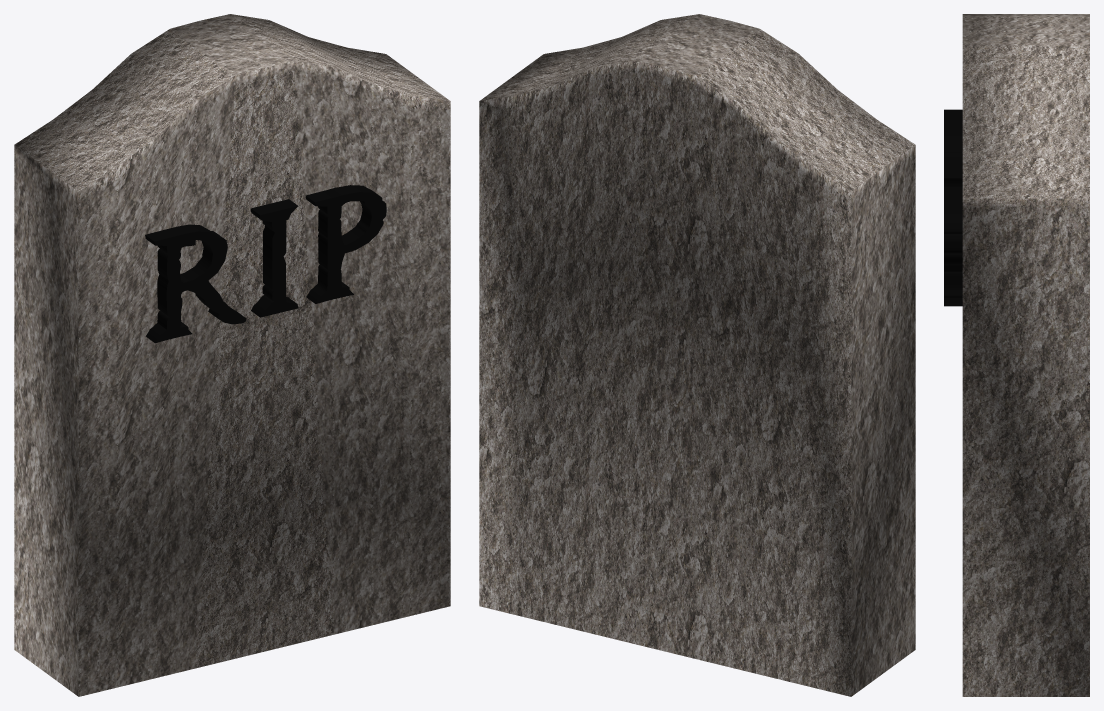
Rendered from GraveStone.fbx.
The picture shows the model from 3 angles, left to right: view 1: azimuth 30°, elevation 25°; view 2: azimuth 150°, elevation 25°; view 3: azimuth 270°, elevation 25°; orthographic projection.
Parts seen in each view (by area): view 1: node_id4, node_id43; view 2: node_id4; view 3: node_id4, node_id43.
Boxes of the visible parts, x1,y1,x2,y2 form: node_id4: [14, 14, 450, 696]; node_id43: [145, 185, 386, 343]; node_id4: [479, 14, 915, 696]; node_id4: [962, 14, 1089, 696]; node_id43: [944, 109, 962, 306].
Bounding box in the file's own units: 0.3413 × 0.512 × 0.1174.
Materials: 2 (1 with a texture image).
